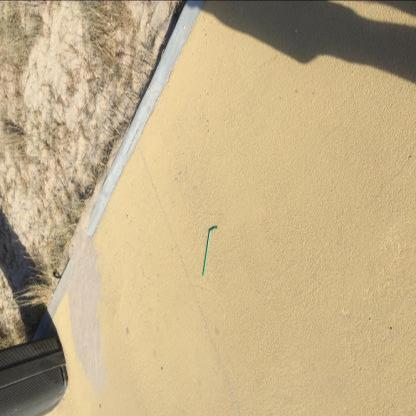Cigarette: (58, 103, 60, 109)
Straw: (203, 226, 218, 277)
